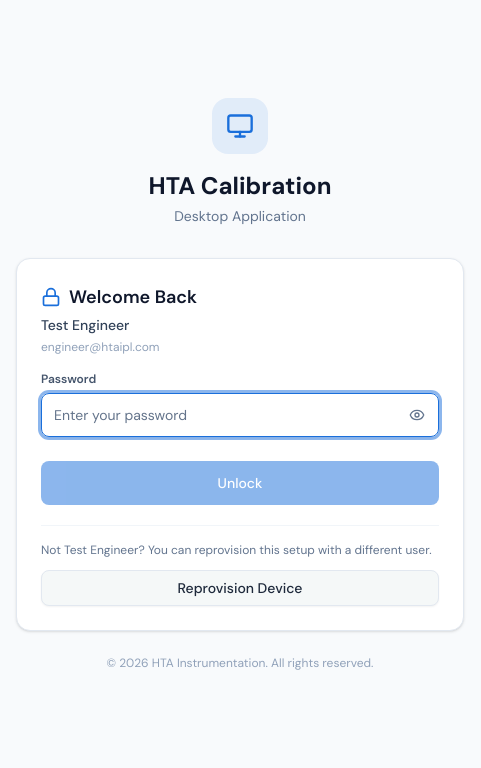
DesktopLoginPage › warns before reprovisioning an existing desktop setup
The image size is (481, 768).
Expected: the heading "Welcome Back" is shown, [69,282,197,310]
Expected: the text "Not Test Engineer" is shown, [41,542,439,558]
Click the button "Reprovision Device" at [240, 588], box [41,570,439,606]
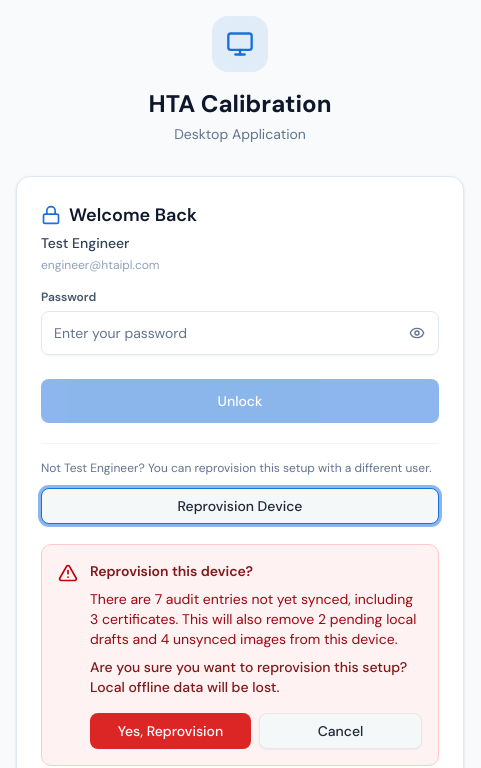
Expected: the text "2 pending local drafts and 4 unsynced images" is shown, [90,589,422,649]
Click the button "Yes, Reprovision" at [170, 731], box [90,713,251,749]
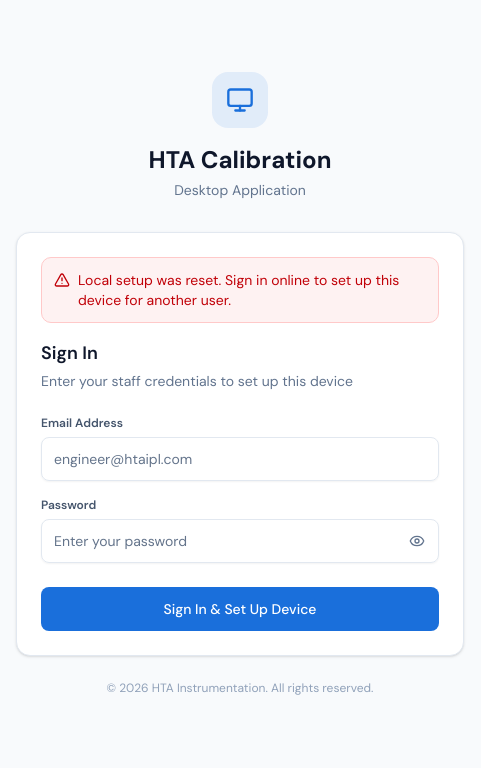
Expected: the heading "Sign In" is shown, [41,341,98,365]
